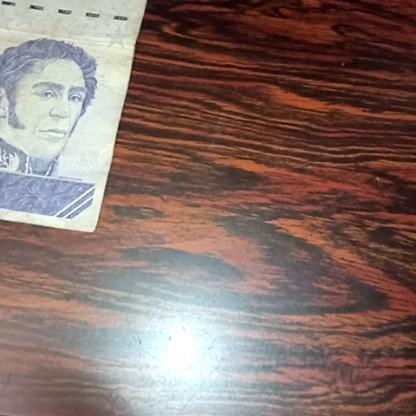ten-front-vef: (0, 0, 154, 233)
